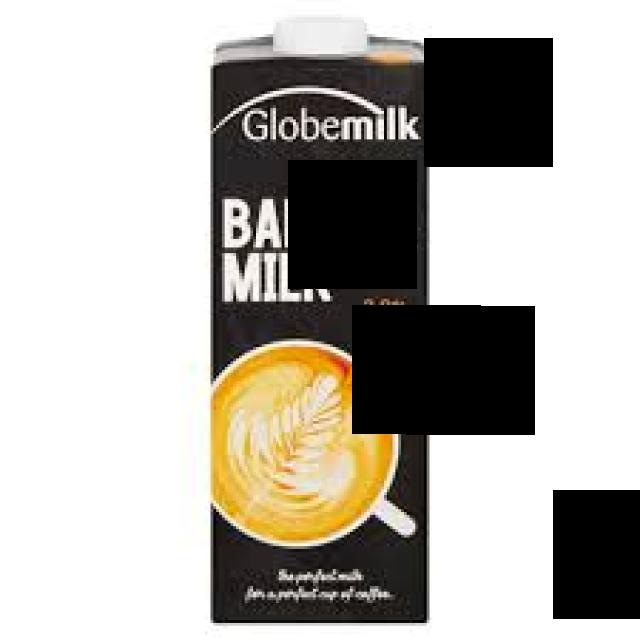milk: (175, 12, 467, 632)
